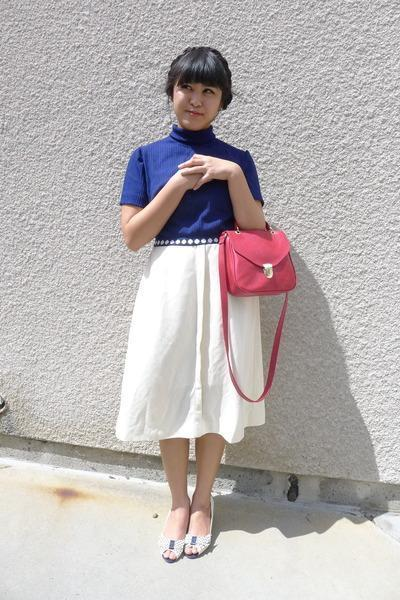bag: (218, 231, 295, 371)
shirt: (120, 125, 264, 246)
shoe: (164, 518, 219, 568)
skirt: (114, 238, 264, 443)
